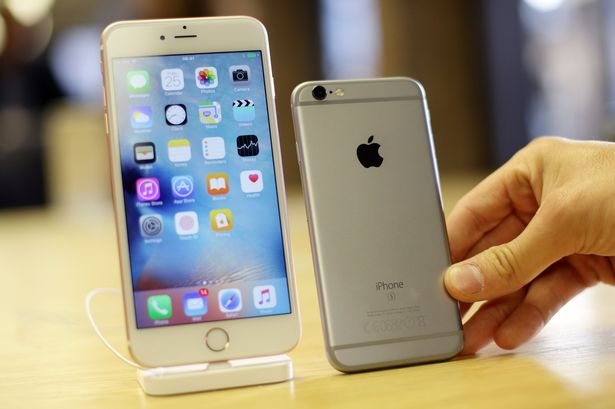apple: (348, 129, 402, 177)
